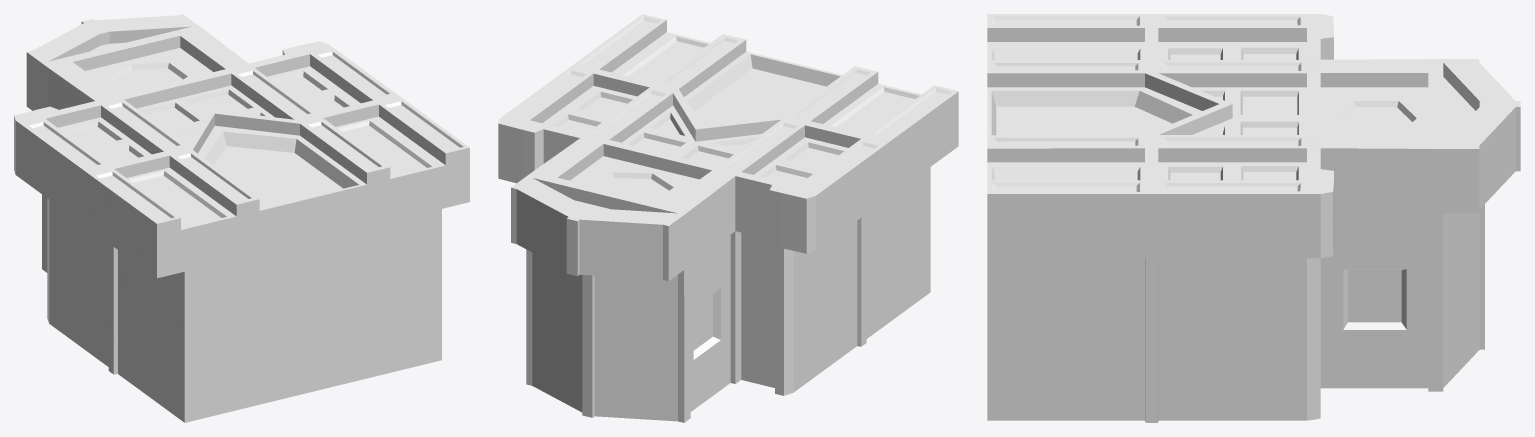
File: venice_building_10.fbx
The picture shows the model from 3 angles, left to right: view 1: azimuth 30°, elevation 25°; view 2: azimuth 150°, elevation 25°; view 3: azimuth 270°, elevation 25°; orthographic projection. The views are drawn at different scales.
Parts seen in each view (by area): view 1: Cube.326; view 2: Cube.326; view 3: Cube.326.
Boxes of the visible parts, x1,y1,x2,y2 form: Cube.326: (14,14,469,422); Cube.326: (498,14,958,422); Cube.326: (987,14,1520,422).
Bounding box in the file's own units: 902 × 567 × 1129.
